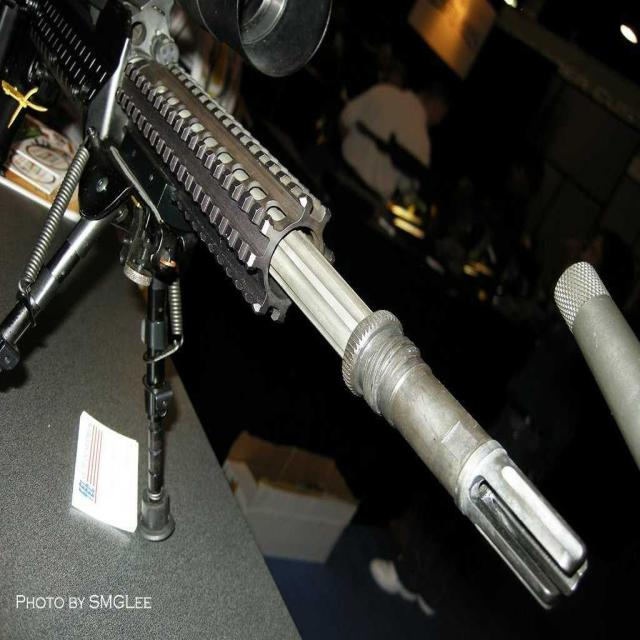heavyweapon: (1, 1, 618, 629)
